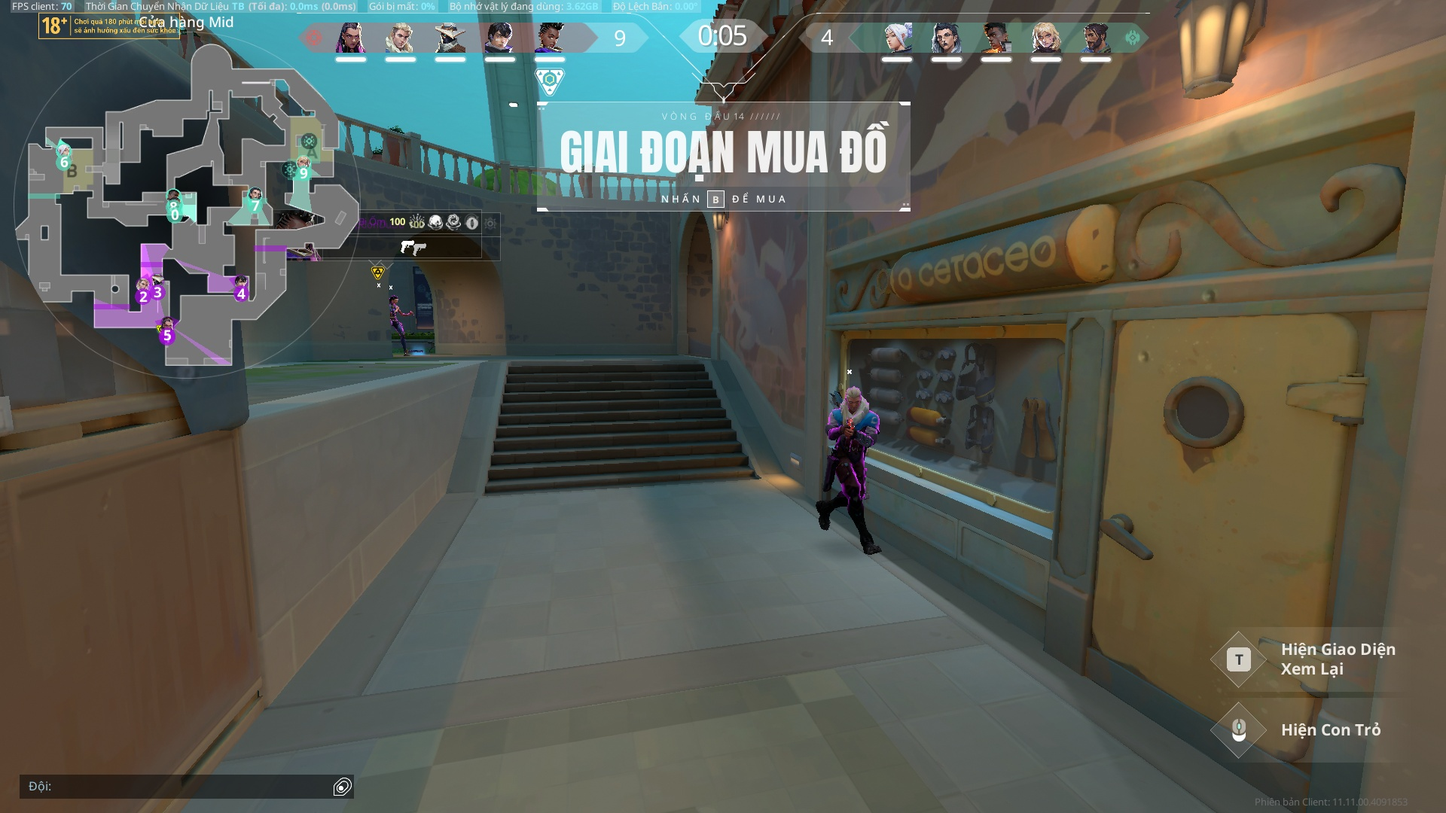body: (828, 403, 880, 454), (389, 301, 403, 324)
head: (844, 385, 865, 412), (389, 294, 399, 304)
